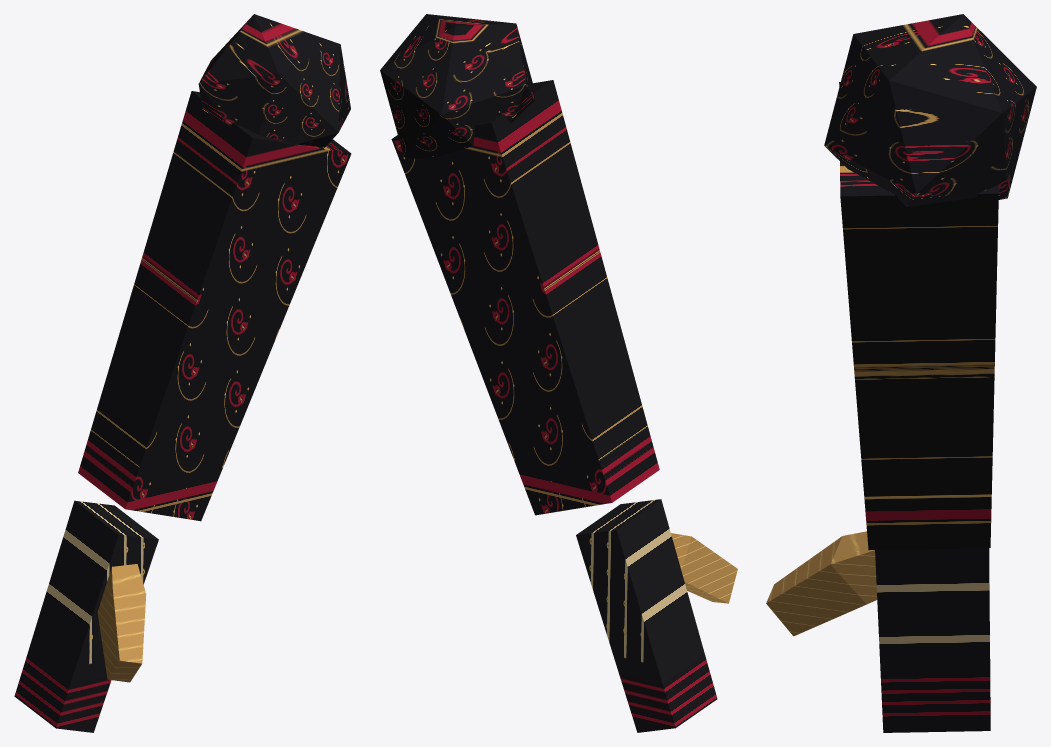
The model's file is Fermin_AntebrazoDer.obj.
3 views of the same model, side by side, from view 1: azimuth 30°, elevation 25°; view 2: azimuth 150°, elevation 25°; view 3: azimuth 270°, elevation 25° (orthographic). The views are drawn at different scales.
Visible parts, largest first — view 1: Cube_013_color_fabric, Cube_014_color_hands, Icosphere_004_color_fabric, Cube_015_color_gold; view 2: Cube_013_color_fabric, Cube_014_color_hands, Icosphere_004_color_fabric, Cube_015_color_gold; view 3: Cube_013_color_fabric, Icosphere_004_color_fabric, Cube_014_color_hands, Cube_015_color_gold.
Boxes of the visible parts, box(x1,y1,x2,y2) form: Cube_013_color_fabric: box(78, 91, 351, 521); Cube_014_color_hands: box(14, 500, 158, 732); Icosphere_004_color_fabric: box(198, 14, 350, 147); Cube_015_color_gold: box(97, 564, 146, 682); Cube_013_color_fabric: box(391, 80, 659, 515); Cube_014_color_hands: box(576, 499, 717, 732); Icosphere_004_color_fabric: box(380, 14, 534, 159); Cube_015_color_gold: box(671, 533, 737, 603); Cube_013_color_fabric: box(839, 82, 998, 550); Icosphere_004_color_fabric: box(824, 14, 1036, 207); Cube_014_color_hands: box(875, 548, 990, 732); Cube_015_color_gold: box(766, 531, 877, 636).
Size of the model in its own units: 1.01 by 2.03 by 0.5945.
3 materials, 3 textured.
